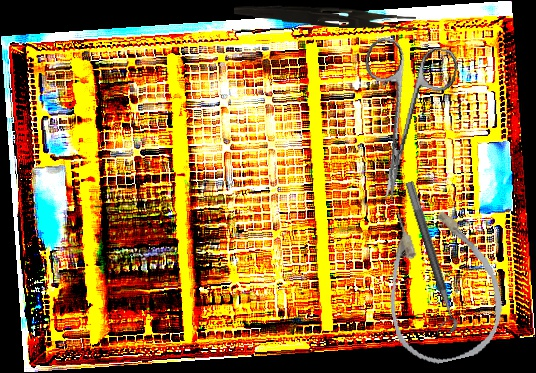Cannula: (369, 194, 513, 372)
Dressing Forceps: (233, 3, 417, 31)
Fixation Ring: (392, 180, 460, 337)
Iris Scissors: (340, 34, 461, 207)
